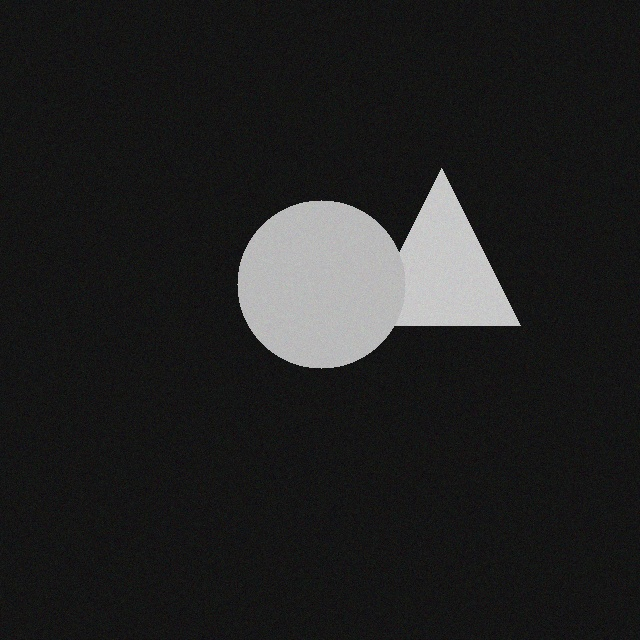circle: (238, 215, 406, 383)
triangle: (364, 183, 521, 340)
